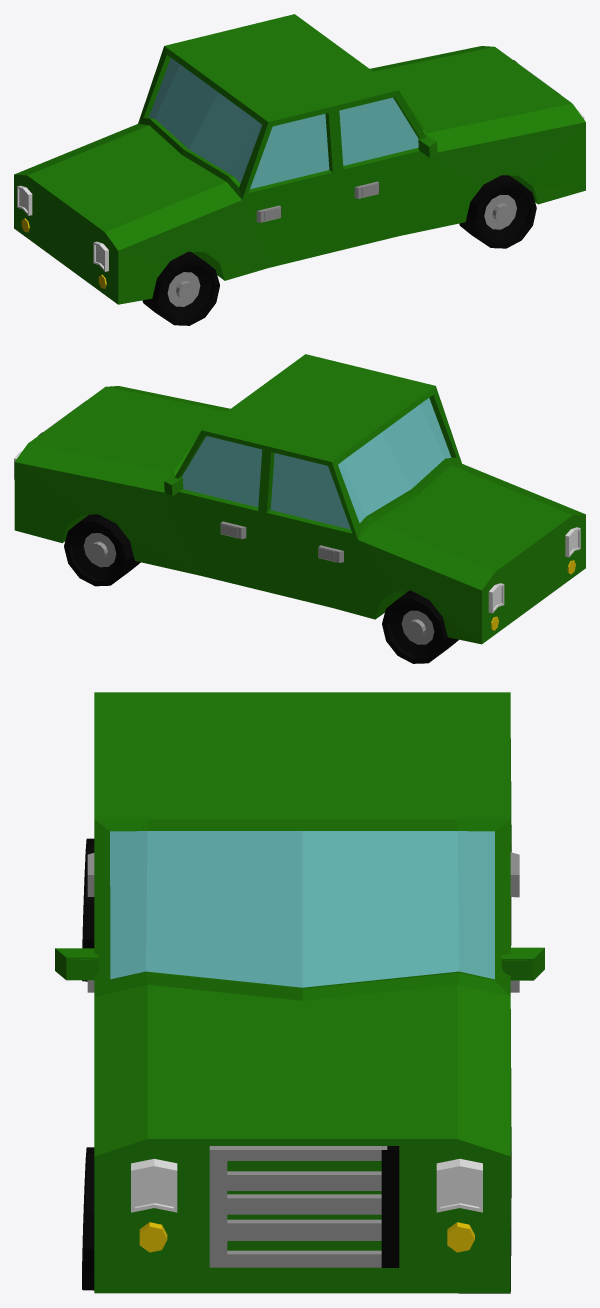
File: Car003.FBX
3 views of the same model, one above another, from view 1: azimuth 30°, elevation 25°; view 2: azimuth 150°, elevation 25°; view 3: azimuth 270°, elevation 25° (orthographic). The views are drawn at different scales.
Parts seen in each view (by area): view 1: Cube, Cylinder_003, Cylinder_000; view 2: Cube, Cylinder_001, Cylinder_002, Cube_013; view 3: Cube, Cube_009, Cube_011, Cube_010, Cube_008, Cylinder_003, Cube_007, Cube_006, Cylinder_000.
Part boxes in pixels (x1=…): Cube: x1=14, y1=14, x2=585, y2=304; Cylinder_003: x1=459, y1=175, x2=536, y2=248; Cylinder_000: x1=142, y1=251, x2=219, y2=325; Cube: x1=14, y1=354, x2=585, y2=644; Cylinder_001: x1=64, y1=514, x2=140, y2=586; Cylinder_002: x1=382, y1=590, x2=458, y2=663; Cube_013: x1=488, y1=583, x2=504, y2=613; Cube: x1=94, y1=692, x2=511, y2=1293; Cube_009: x1=209, y1=1146, x2=387, y2=1267; Cube_011: x1=131, y1=1158, x2=177, y2=1212; Cube_010: x1=436, y1=1158, x2=482, y2=1212; Cube_008: x1=381, y1=1146, x2=399, y2=1267; Cylinder_003: x1=82, y1=1147, x2=94, y2=1290; Cube_007: x1=55, y1=948, x2=98, y2=980; Cube_006: x1=501, y1=947, x2=544, y2=980; Cylinder_000: x1=82, y1=838, x2=94, y2=981.
Size of the model in its own units: 2.89 by 1.05 by 1.28.
